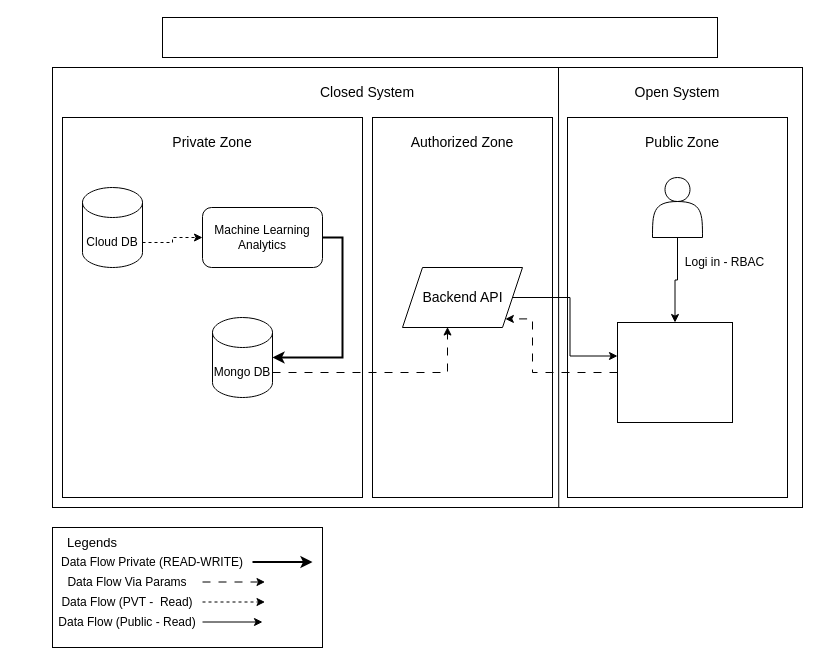
Image size: 820x665. Some labels were removed from this diagram. The box of each missing label's shape, as (x1, y1, x2, y2) in pixels:
End to End Architecture: (162, 16, 718, 58)
User Interface: (616, 322, 732, 422)
